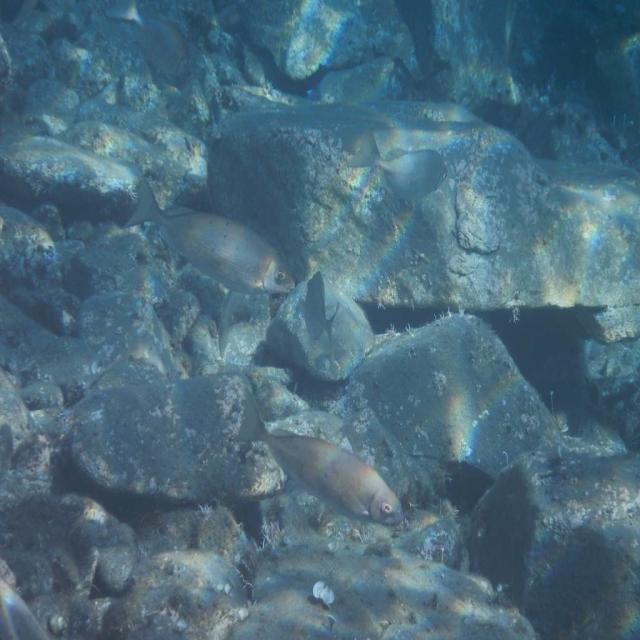Sokar Baligi: (237, 363, 408, 544), (122, 160, 308, 313)
